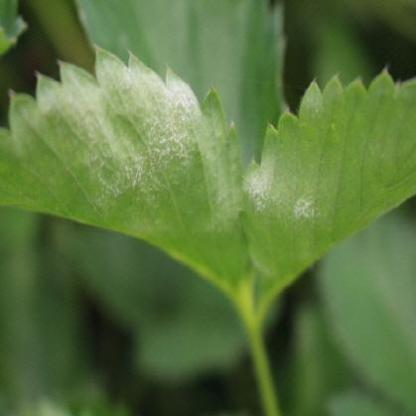Strawberry_Powdery_Mildew_Leaf: (0, 43, 254, 307), (239, 63, 415, 310)
